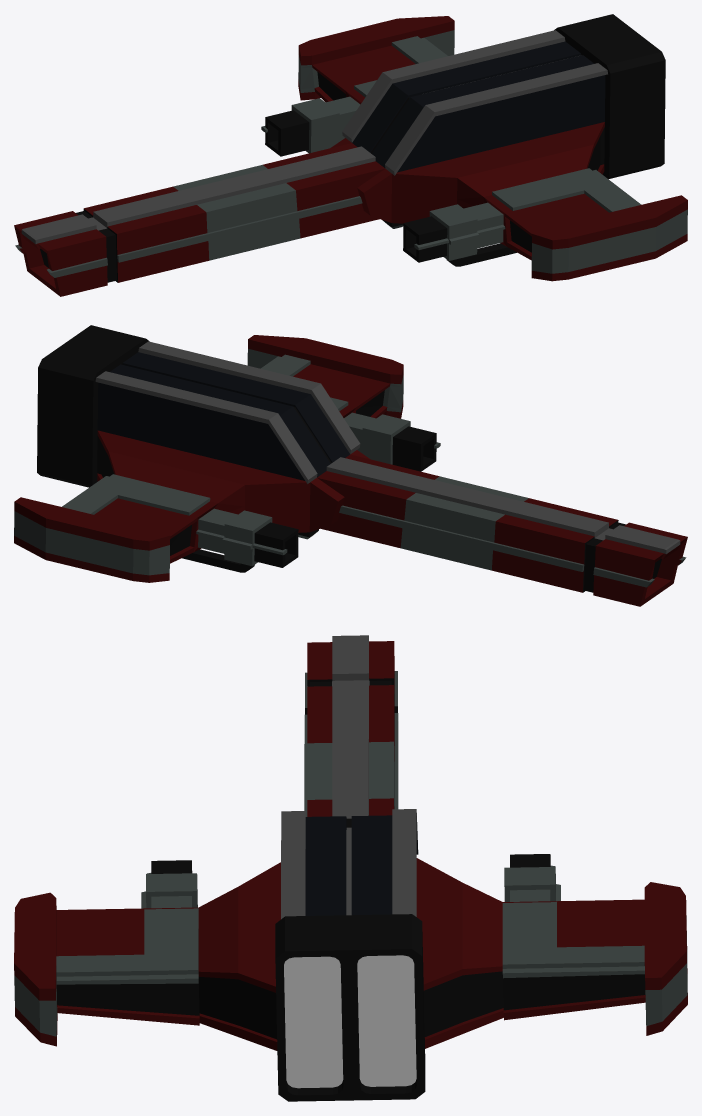
File: naveJugador.obj
3 views of the same model, one above another, from view 1: azimuth 30°, elevation 25°; view 2: azimuth 150°, elevation 25°; view 3: azimuth 270°, elevation 25° (orthographic). The views are drawn at different scales.
Visible parts, largest first — view 1: Cube; view 2: Cube; view 3: Cube.
Boxes of the visible parts, x1,y1,x2,y2 form: Cube: (14, 14, 687, 296); Cube: (14, 325, 687, 606); Cube: (14, 635, 687, 1101).
Bounding box in the file's own units: 23.35 × 4.59 × 17.27.
